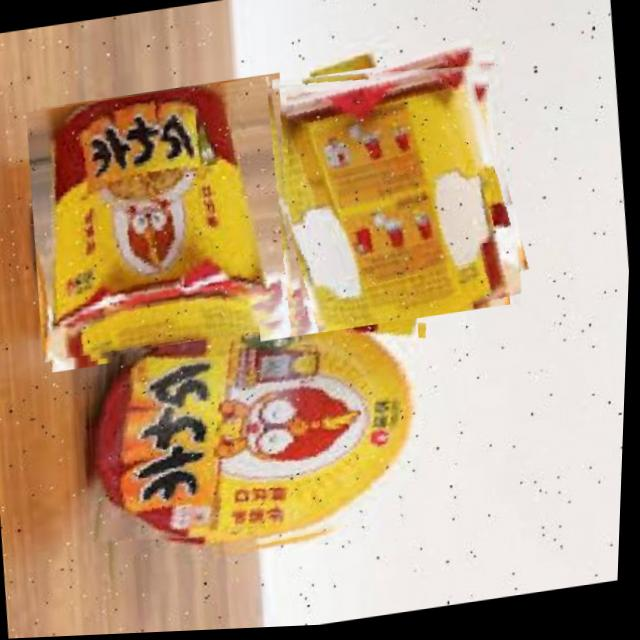Miscellaneous: (73, 287, 443, 580), (235, 44, 532, 343), (19, 74, 316, 372)
